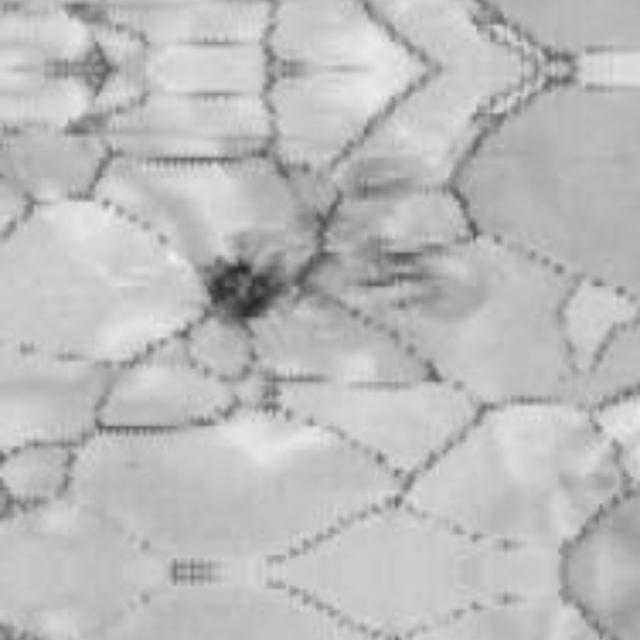good_void: (197, 241, 297, 326)
